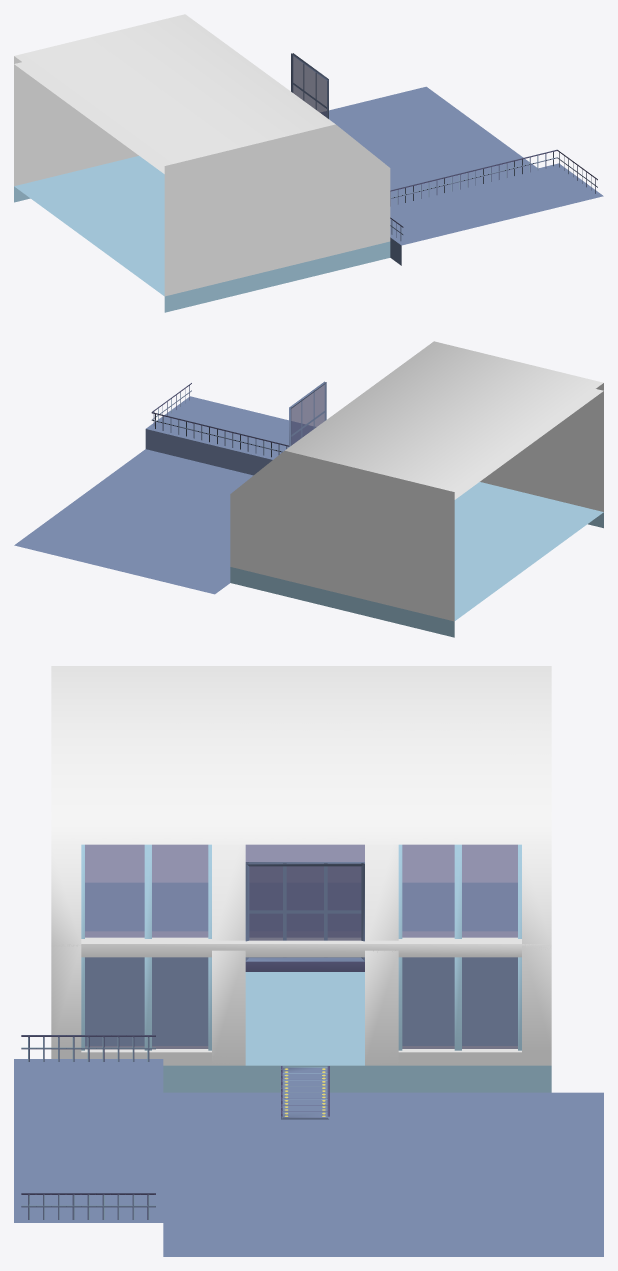
The model's file is spacestation.gltf.
The picture shows the model from 3 angles, top to bottom: view 1: azimuth 30°, elevation 25°; view 2: azimuth 150°, elevation 25°; view 3: azimuth 270°, elevation 25°; orthographic projection. The views are drawn at different scales.
Parts seen in each view (by area): view 1: spacestation, launchpad, station_door; view 2: spacestation, launchpad, station_door; view 3: spacestation, launchpad, post_thick (×2), station_door, post (×3), bridge.
Part boxes in pixels (bbox=[...]): spacestation: bbox=[14, 14, 390, 312]; launchpad: bbox=[320, 86, 603, 265]; station_door: bbox=[291, 53, 328, 118]; spacestation: bbox=[230, 341, 603, 637]; launchpad: bbox=[14, 383, 315, 594]; station_door: bbox=[289, 381, 326, 446]; spacestation: bbox=[51, 666, 551, 1092]; launchpad: bbox=[14, 1035, 603, 1256]; post_thick (×2): bbox=[212, 844, 398, 1065]; station_door: bbox=[245, 862, 364, 971]; post (×3): bbox=[144, 844, 461, 1050]; bridge: bbox=[281, 1067, 329, 1119].
Bounding box in the file's own units: 27.5 × 9.02 × 19.75.
Materials: 2 (2 with a texture image).
